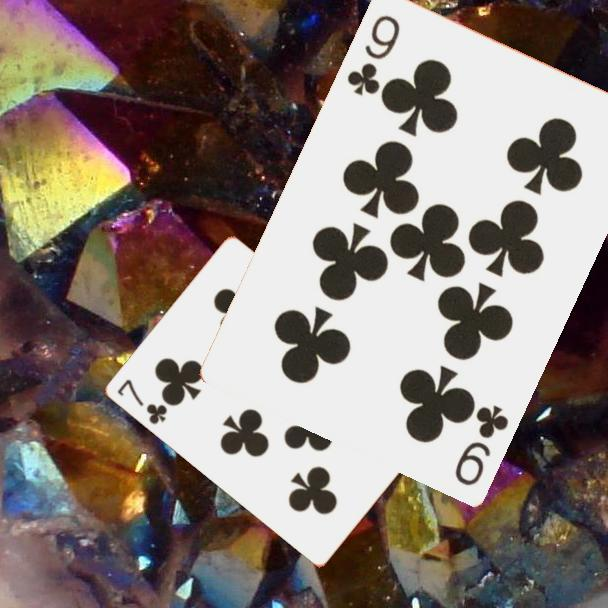c07: (114, 376, 171, 427)
c09: (450, 400, 512, 488), (343, 10, 403, 98)
